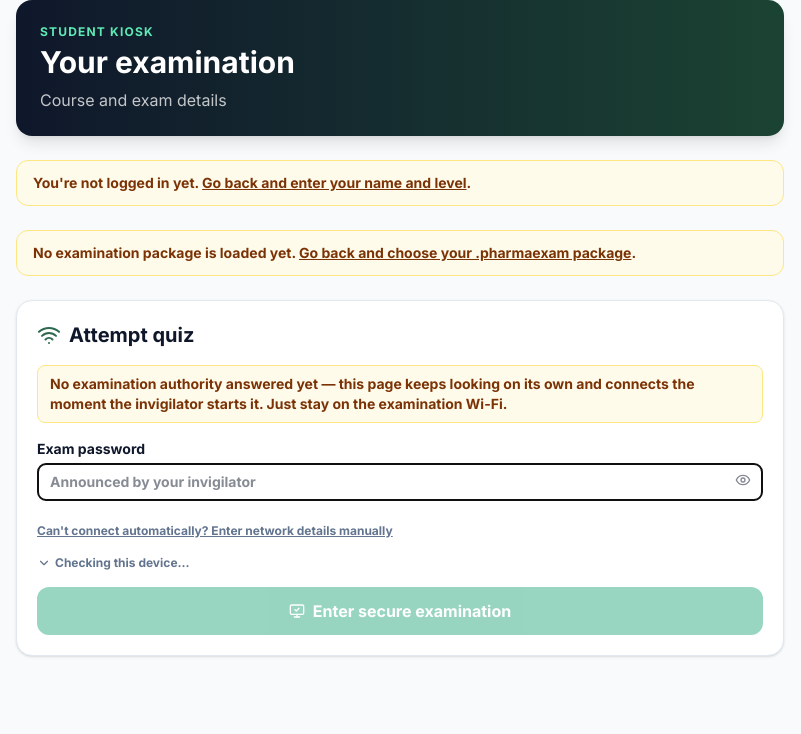
Test: authority auto-discovery on the exam-attempt page › remembers the last used endpoint for the next exam, surfaced once the manual fields are opened
This screenshot has width=801, height=734.
expect the text with test id "discovery-status" is shown: met, box [37, 365, 763, 423]
Click the button with test id "manual-network-toggle" at (215, 531), box [37, 523, 393, 539]
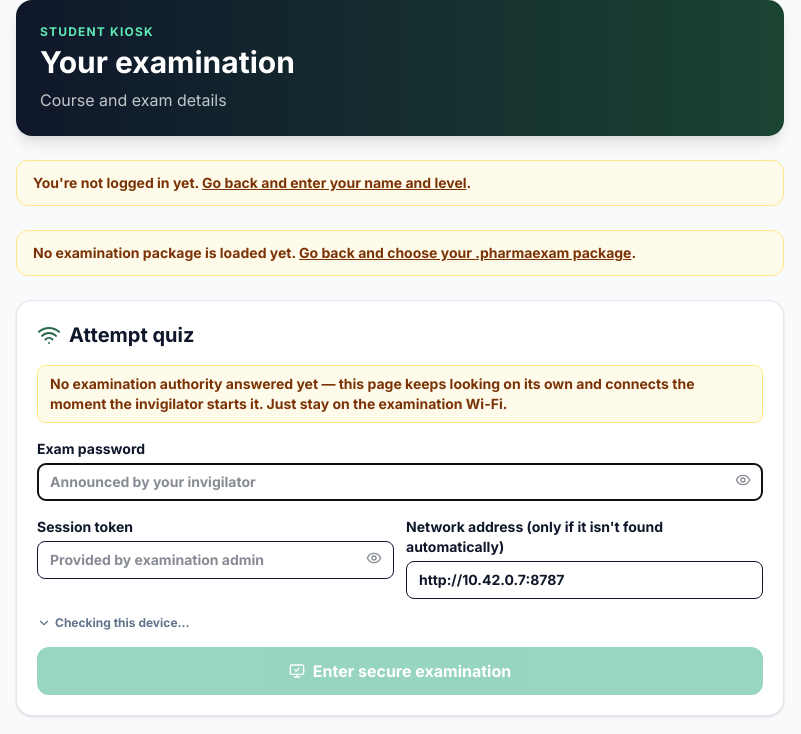
expect the field with test id "lan-endpoint-input" holds "http://10.42.0.7:8787": met, box [406, 561, 763, 599]
